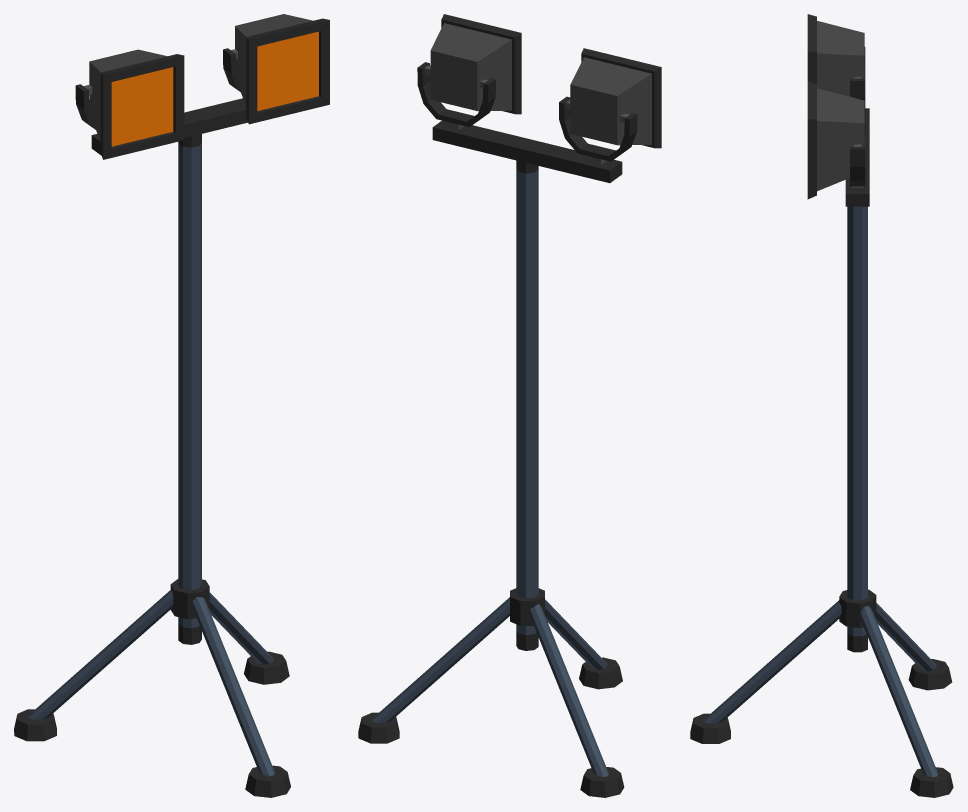
Rendered from Light_01.fbx.
The picture shows the model from 3 angles, left to right: view 1: azimuth 30°, elevation 25°; view 2: azimuth 150°, elevation 25°; view 3: azimuth 270°, elevation 25°; orthographic projection. The views are drawn at different scales.
Parts seen in each view (by area): view 1: Light_01; view 2: Light_01; view 3: Light_01.
Part boxes in pixels (bbox=[...]): Light_01: bbox=[14, 14, 329, 797]; Light_01: bbox=[358, 14, 661, 797]; Light_01: bbox=[690, 14, 953, 797].
Size of the model in its own units: 60.92 by 151 by 53.79.
